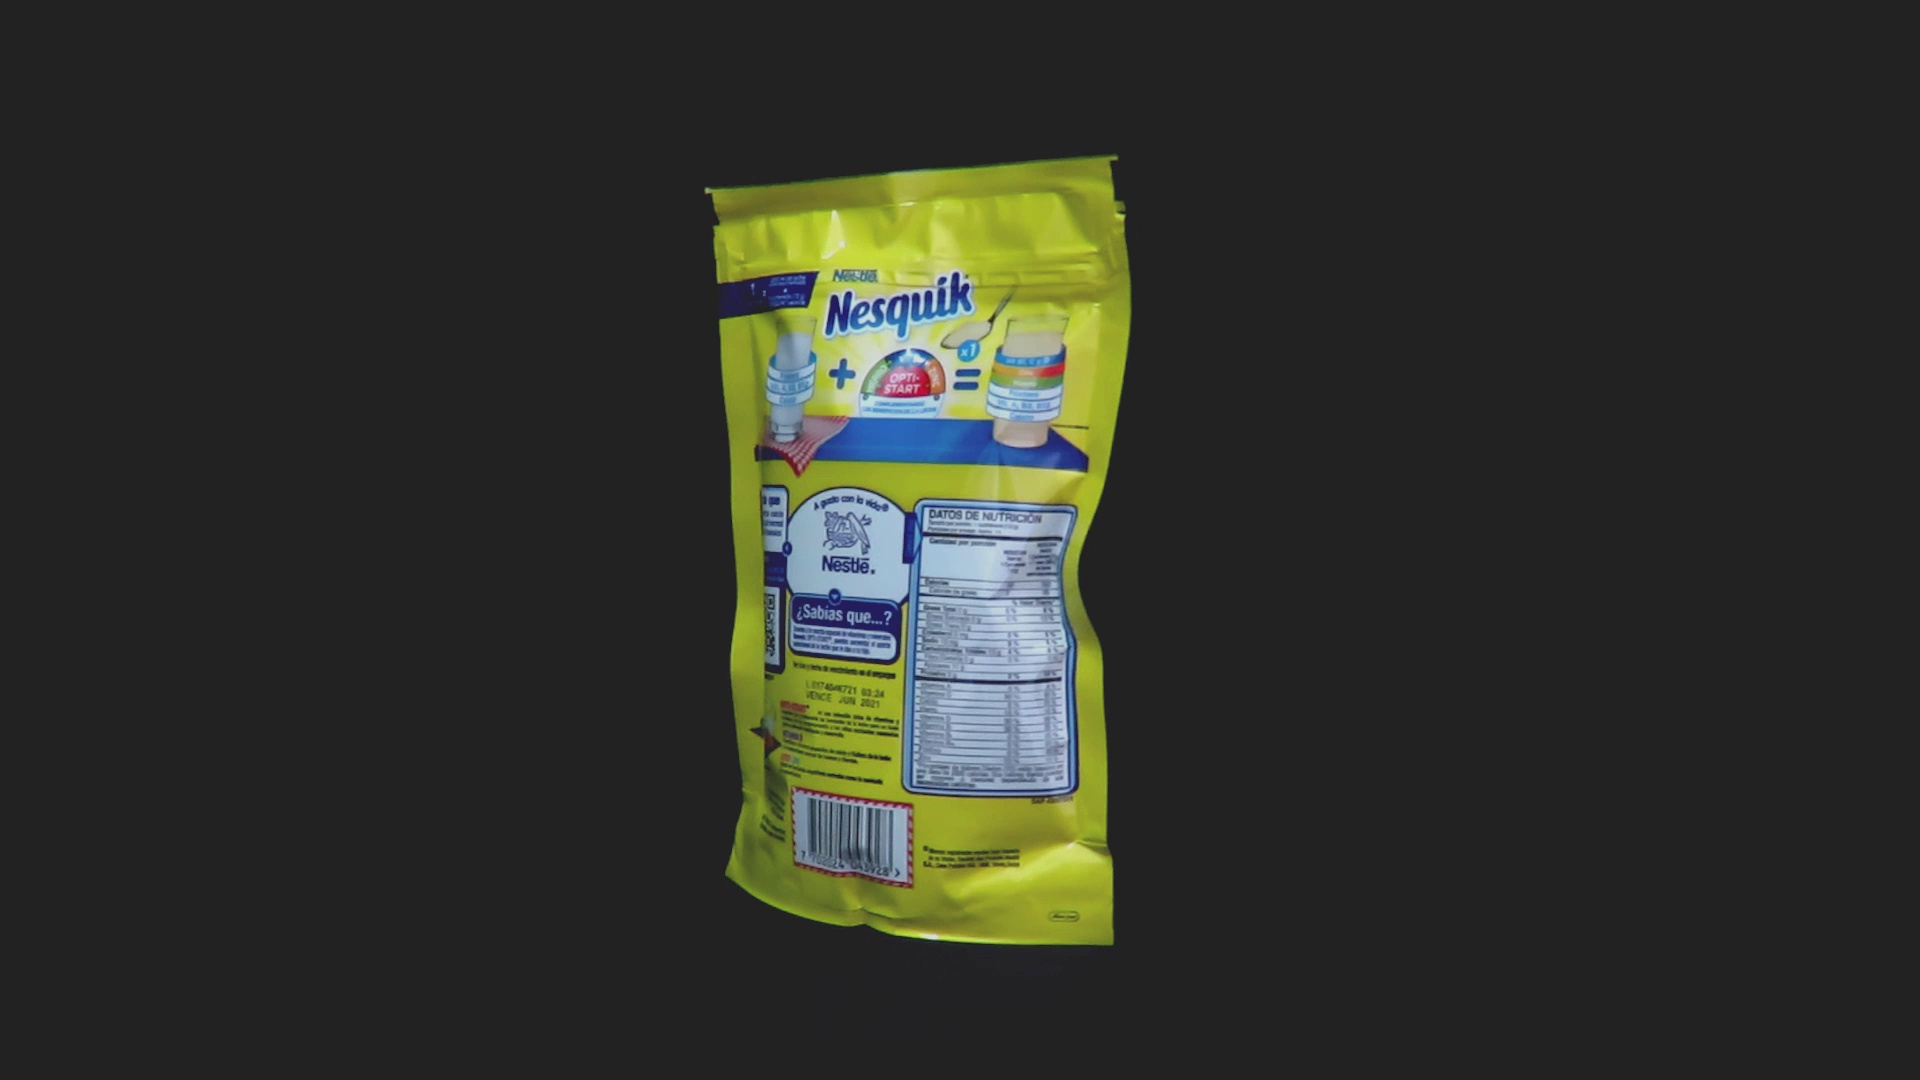COL0170306DYP20000: (700, 150, 1138, 952)
